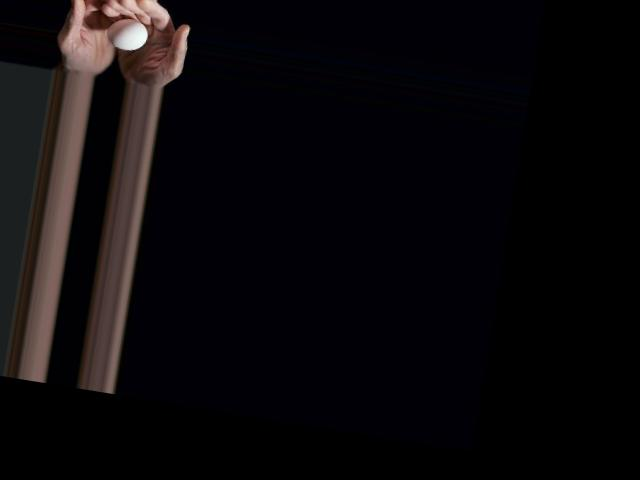egg: (105, 15, 150, 53)
